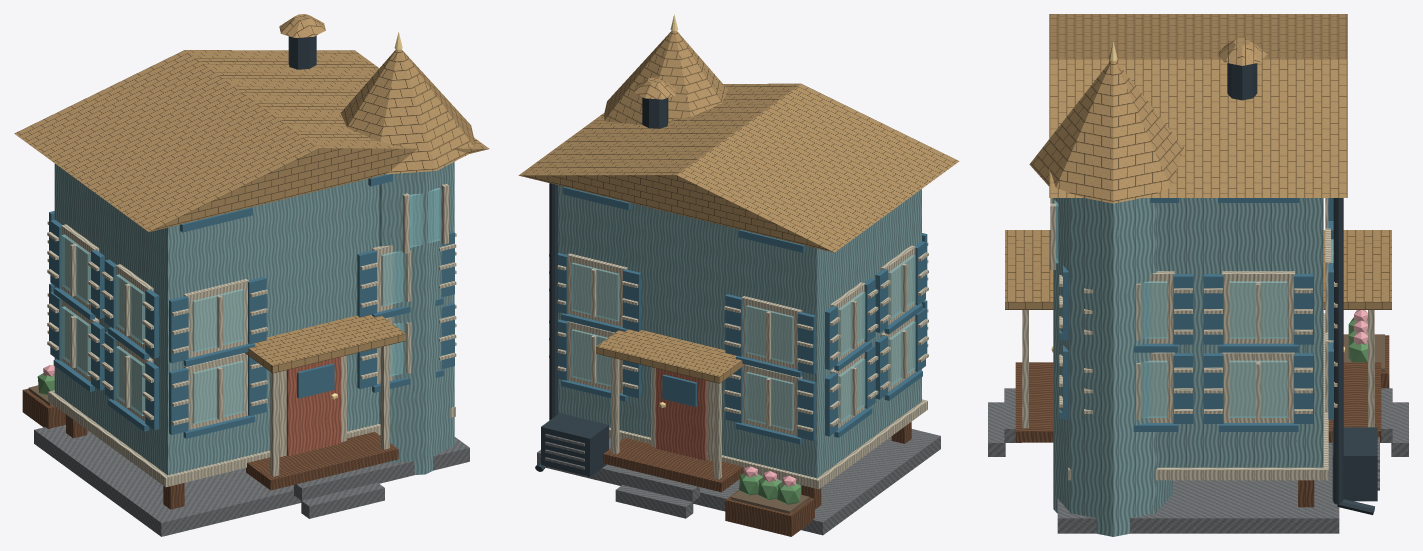
File: house_beach_lv5_tower.glb
The picture shows the model from 3 angles, left to right: view 1: azimuth 30°, elevation 25°; view 2: azimuth 150°, elevation 25°; view 3: azimuth 270°, elevation 25°; orthographic projection. The views are drawn at different scales.
Visible parts, largest first — view 1: gable_roof, walls, tower, foundation, tower_roof, front_porch_canopy, front_deck, front_door, front_window_frame.002, front_window_frame, floor_trim, front_window_glass (+40 smaller); view 2: gable_roof, walls, foundation, tower_roof, back_porch_canopy, back_deck, back_door, back_window_frame.002, back_ac_unit, back_window_frame.003, back_window_frame, floor_trim (+43 smaller); view 3: gable_roof, tower, walls, tower_roof, foundation, right_window_frame.003, right_window_frame.001, back_porch_canopy, front_porch_canopy, right_window_glass.001, right_window_glass.003, back_downspout (+25 smaller).
Boxes of the visible parts, box(x1,y1,x2,y2) form: gable_roof: box(14, 50, 489, 231); walls: box(54, 163, 379, 475); tower: box(379, 162, 454, 474); foundation: box(34, 425, 469, 536); tower_roof: box(340, 49, 474, 174); front_porch_canopy: box(245, 314, 405, 373); front_deck: box(246, 432, 398, 490); front_door: box(286, 357, 341, 456); front_window_frame.002: box(183, 279, 248, 358); front_window_frame: box(183, 353, 247, 429); floor_trim: box(48, 390, 455, 487); front_window_glass: box(192, 360, 244, 424); gable_roof: box(518, 83, 959, 252); walls: box(558, 185, 921, 477); foundation: box(537, 429, 940, 535); tower_roof: box(604, 30, 727, 124); back_porch_canopy: box(596, 329, 745, 383); back_deck: box(603, 438, 744, 492); back_door: box(656, 368, 706, 460); back_window_frame.002: box(741, 296, 802, 369); back_ac_unit: box(541, 413, 608, 476); back_window_frame.003: box(567, 253, 627, 326); back_window_frame: box(742, 364, 802, 436); floor_trim: box(609, 399, 927, 489); gable_roof: box(1049, 14, 1347, 197); tower: box(1053, 198, 1173, 536); walls: box(1158, 198, 1323, 467); tower_roof: box(1029, 60, 1183, 203); foundation: box(1057, 442, 1339, 533); right_window_frame.003: box(1222, 271, 1294, 343); right_window_frame.001: box(1222, 352, 1294, 422); back_porch_canopy: box(1323, 230, 1391, 309); front_porch_canopy: box(1005, 230, 1053, 309); right_window_glass.001: box(1229, 360, 1287, 417); right_window_glass.003: box(1229, 281, 1287, 338); back_downspout: box(1333, 198, 1343, 504).
Size of the model in its own units: 6.6 by 7.6 by 6.19.
13 materials, 7 textured.
